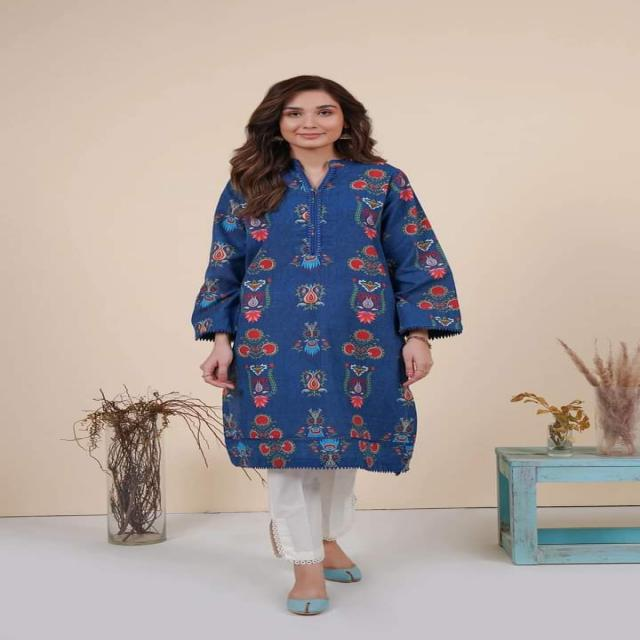female-dress: (210, 149, 443, 556)
